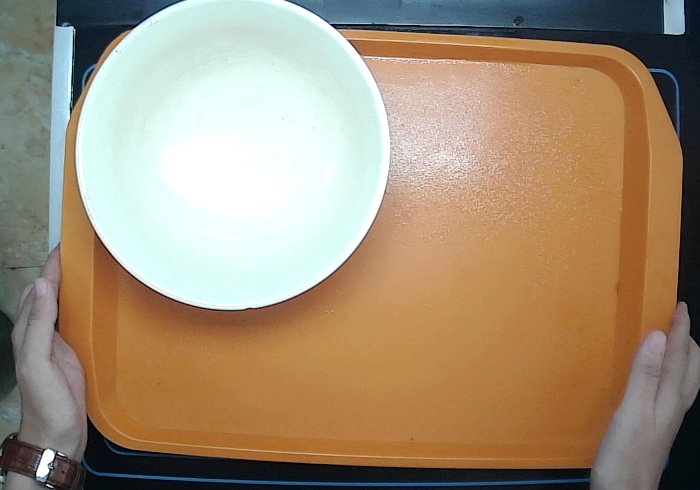ZNLD-Da_Tang_Wan: (68, 1, 400, 318)
